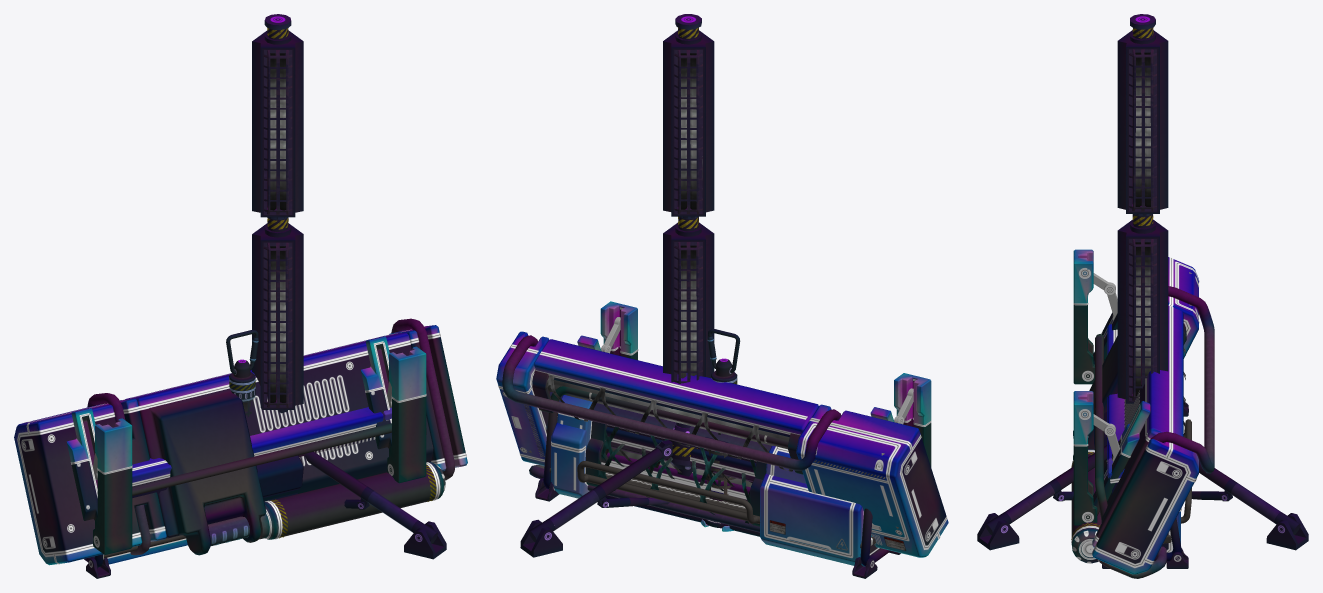
The model's file is luft.glb.
3 renders of one model, left to right at view 1: azimuth 30°, elevation 25°; view 2: azimuth 150°, elevation 25°; view 3: azimuth 270°, elevation 25°, orthographic.
Visible parts, largest first — view 1: prop_luft_heater_large_1_b, prop_luft_heater_freestanding_1_a, prop_luft_heater_large_1_d, prop_luft_heater_freestanding_1_b, prop_luft_heater_hanging_1_a, prop_luft_heater_large_1_c; view 2: prop_luft_heater_large_1_b, prop_luft_heater_freestanding_1_a, prop_luft_heater_large_1_c, prop_luft_heater_large_1_d, prop_luft_heater_freestanding_1_b, prop_luft_heater_hanging_1_a, prop_luft_heater_portable_1_a; view 3: prop_luft_heater_large_1_b, prop_luft_heater_freestanding_1_a, prop_luft_heater_freestanding_1_b, prop_luft_heater_large_1_d.
Part boxes in pixels (x1,y1,x2,y2): prop_luft_heater_large_1_b: (14, 318, 467, 565); prop_luft_heater_freestanding_1_a: (252, 14, 446, 559); prop_luft_heater_large_1_d: (84, 407, 426, 578); prop_luft_heater_freestanding_1_b: (252, 217, 445, 559); prop_luft_heater_hanging_1_a: (226, 329, 258, 417); prop_luft_heater_large_1_c: (107, 492, 297, 564); prop_luft_heater_large_1_b: (496, 301, 948, 557); prop_luft_heater_freestanding_1_a: (520, 14, 714, 557); prop_luft_heater_large_1_c: (551, 422, 879, 566); prop_luft_heater_large_1_d: (535, 386, 900, 578); prop_luft_heater_freestanding_1_b: (520, 216, 752, 557); prop_luft_heater_hanging_1_a: (707, 329, 740, 485); prop_luft_heater_portable_1_a: (701, 437, 736, 531); prop_luft_heater_large_1_b: (1071, 249, 1214, 578); prop_luft_heater_freestanding_1_a: (977, 14, 1308, 549); prop_luft_heater_freestanding_1_b: (977, 214, 1308, 550); prop_luft_heater_large_1_d: (1094, 324, 1191, 568).
Size of the model in its own units: 1.38 by 1.63 by 1.
Materials: 29 (28 with a texture image).
